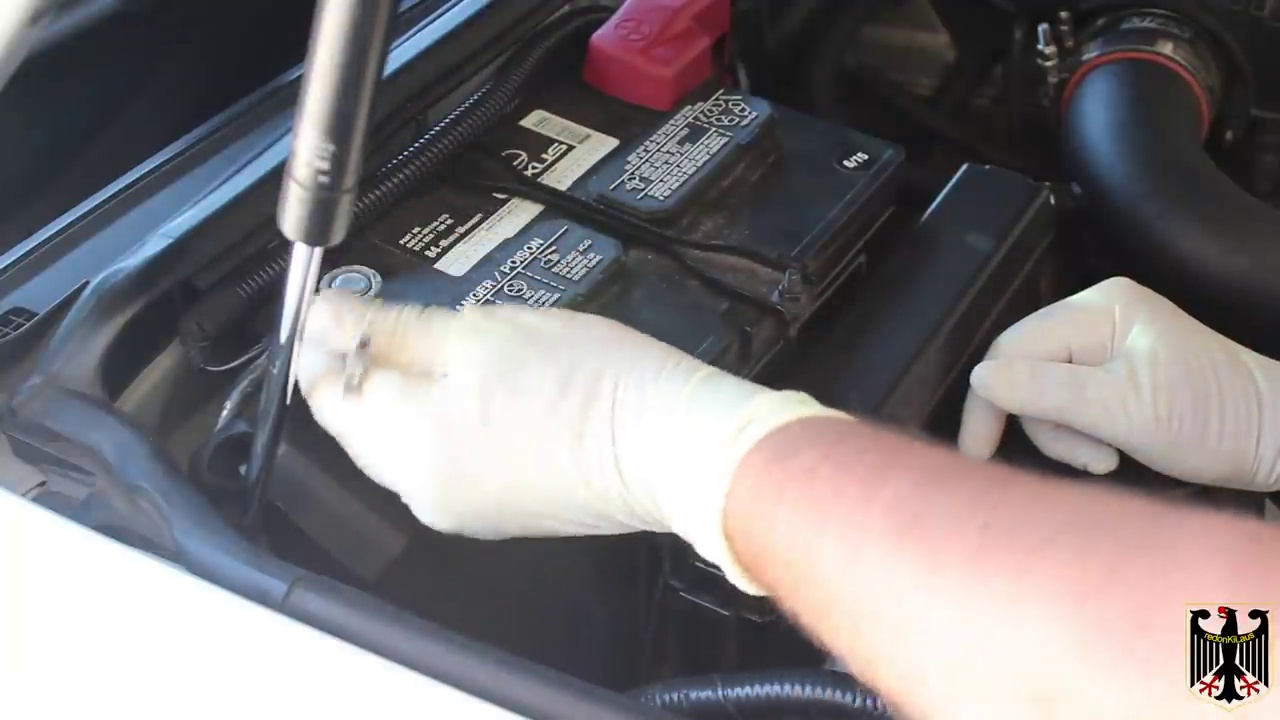battery: (251, 21, 895, 422)
neg_touched: (276, 235, 461, 439)
pos_connected: (551, 2, 766, 130)
